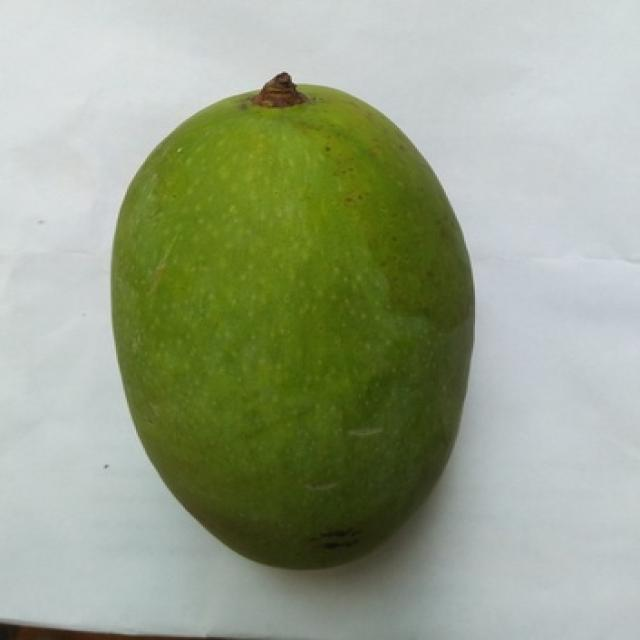Mango: (112, 83, 473, 567)
